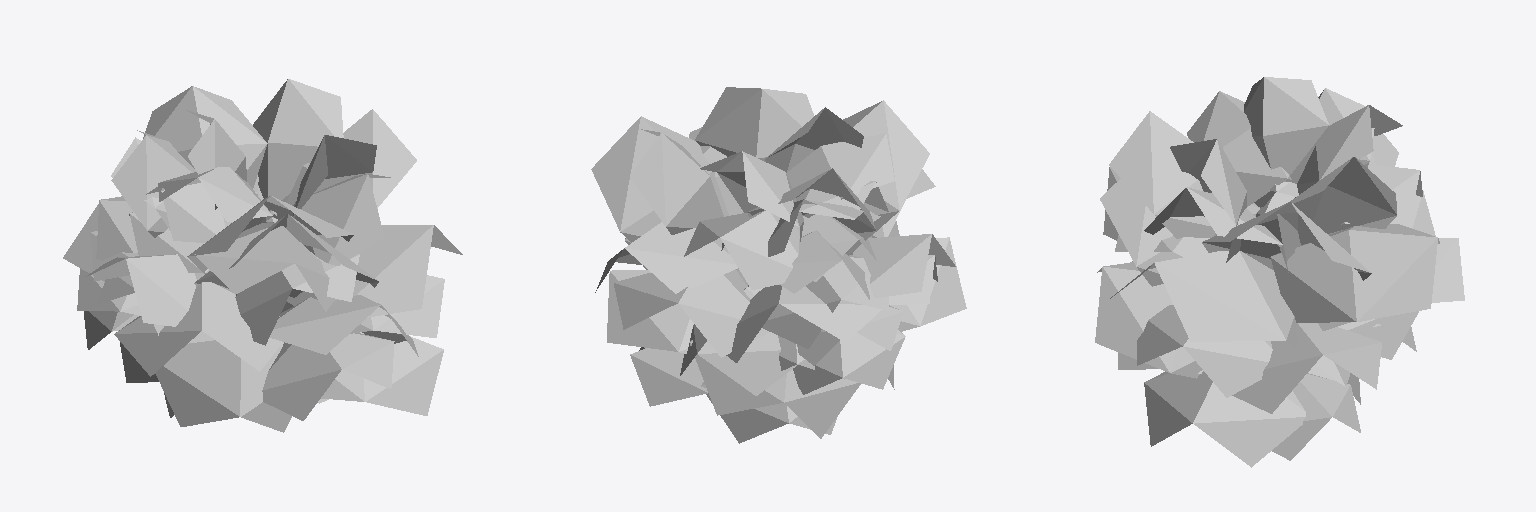
File: leaf01.obj
The picture shows the model from 3 angles: view 1: azimuth 30°, elevation 25°; view 2: azimuth 150°, elevation 25°; view 3: azimuth 270°, elevation 25°; orthographic projection.
Parts seen in each view (by area): view 1: objtree1_leaf_model:test1_LOD0; view 2: objtree1_leaf_model:test1_LOD0; view 3: objtree1_leaf_model:test1_LOD0.
Part boxes in pixels (bbox=[...]): objtree1_leaf_model:test1_LOD0: bbox=[63, 79, 462, 432]; objtree1_leaf_model:test1_LOD0: bbox=[591, 87, 966, 443]; objtree1_leaf_model:test1_LOD0: bbox=[1095, 77, 1464, 467].
Bounding box in the file's own units: 23.93 × 21.78 × 23.55.